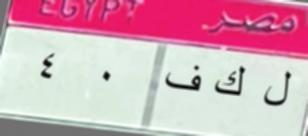0: (94, 68, 122, 90)
4: (30, 50, 63, 88)
faa: (165, 62, 205, 97)
kaaf: (210, 60, 252, 103)
laam: (259, 67, 297, 112)
